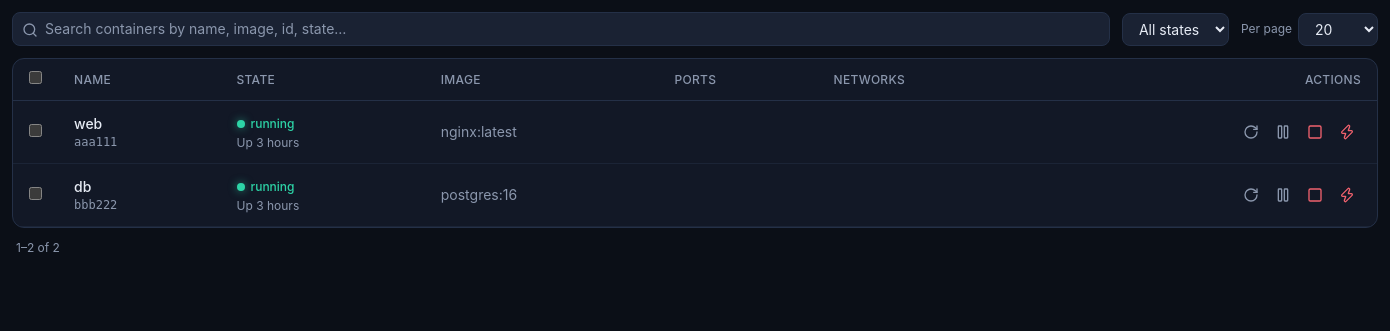
Test case: selection and the bulk toolbar › Clear empties the selection and hides the toolbar
Click the checkbox named "Select all containers" at (36,78), box top-left (29, 71), bottom-right (42, 84)
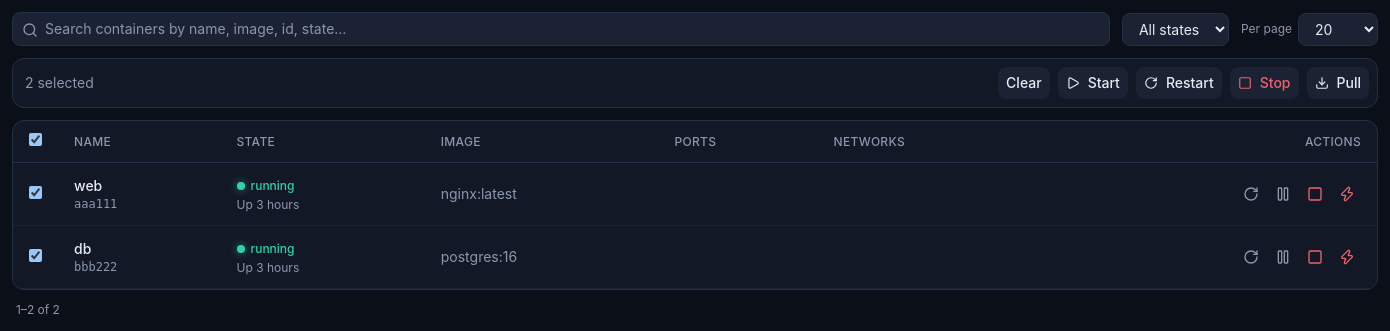
Click the button "Clear" at (1024,83), box top-left (998, 67), bottom-right (1050, 99)
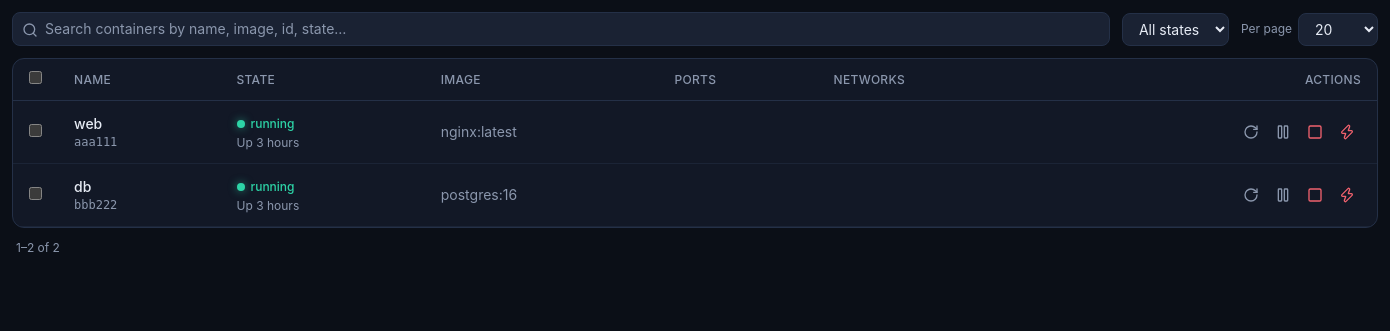
Check: the text "selected" is gone
